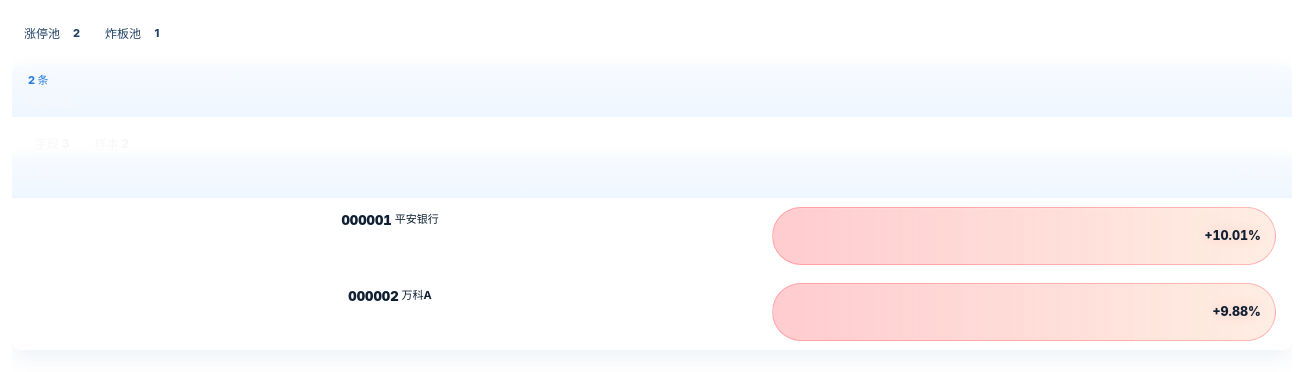
Scenario: TableWorkspaceTabs › renders only the active section and switches table content
The image size is (1304, 372).
Expected: the text "平安银行" is shown, top-left (395, 212), bottom-right (439, 227)
Expected: the text "特锐德" is not shown
Click the button "炸板池 1": (136, 33) top-left (96, 17), bottom-right (176, 48)
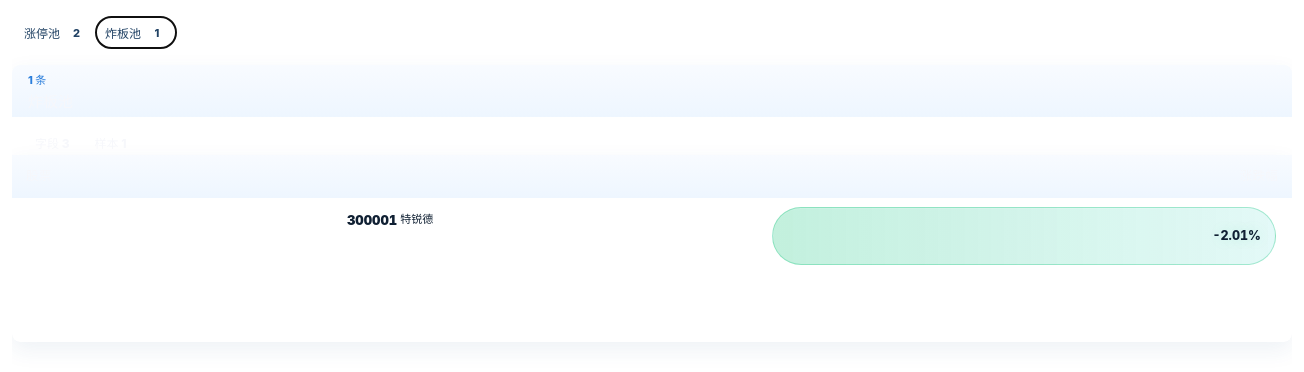
Expected: the text "特锐德" is shown, top-left (400, 212), bottom-right (433, 227)
Expected: the button "平安银行" is gone
